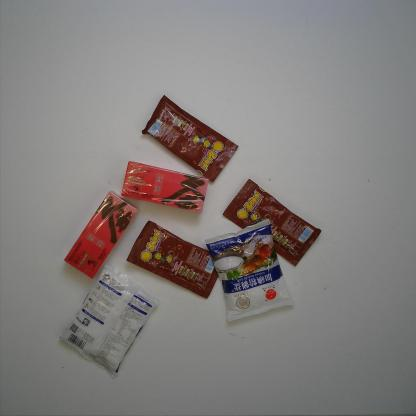Candy: (141, 92, 239, 184), (222, 178, 322, 268), (125, 219, 219, 300)
Instant Drink: (64, 189, 140, 280), (120, 160, 210, 214)
Seasoner: (57, 260, 160, 380), (204, 218, 295, 322)
